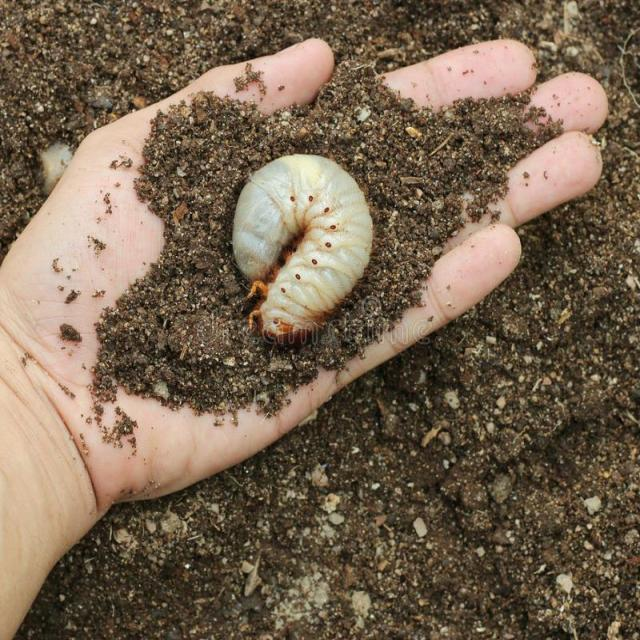Grub-Adult-: (221, 148, 385, 343)
